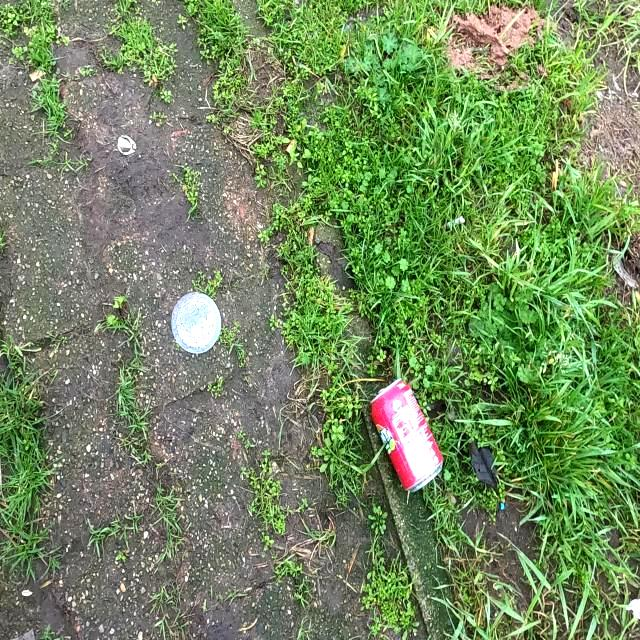Metal: (368, 377, 444, 495)
